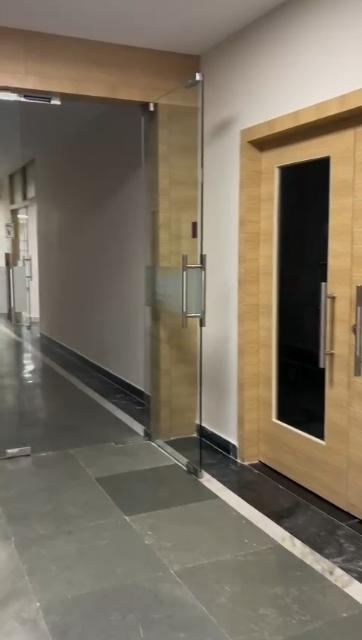door: (236, 121, 362, 481)
floor: (0, 323, 358, 640)
wall: (41, 143, 149, 375), (195, 0, 362, 104), (202, 111, 235, 417)
